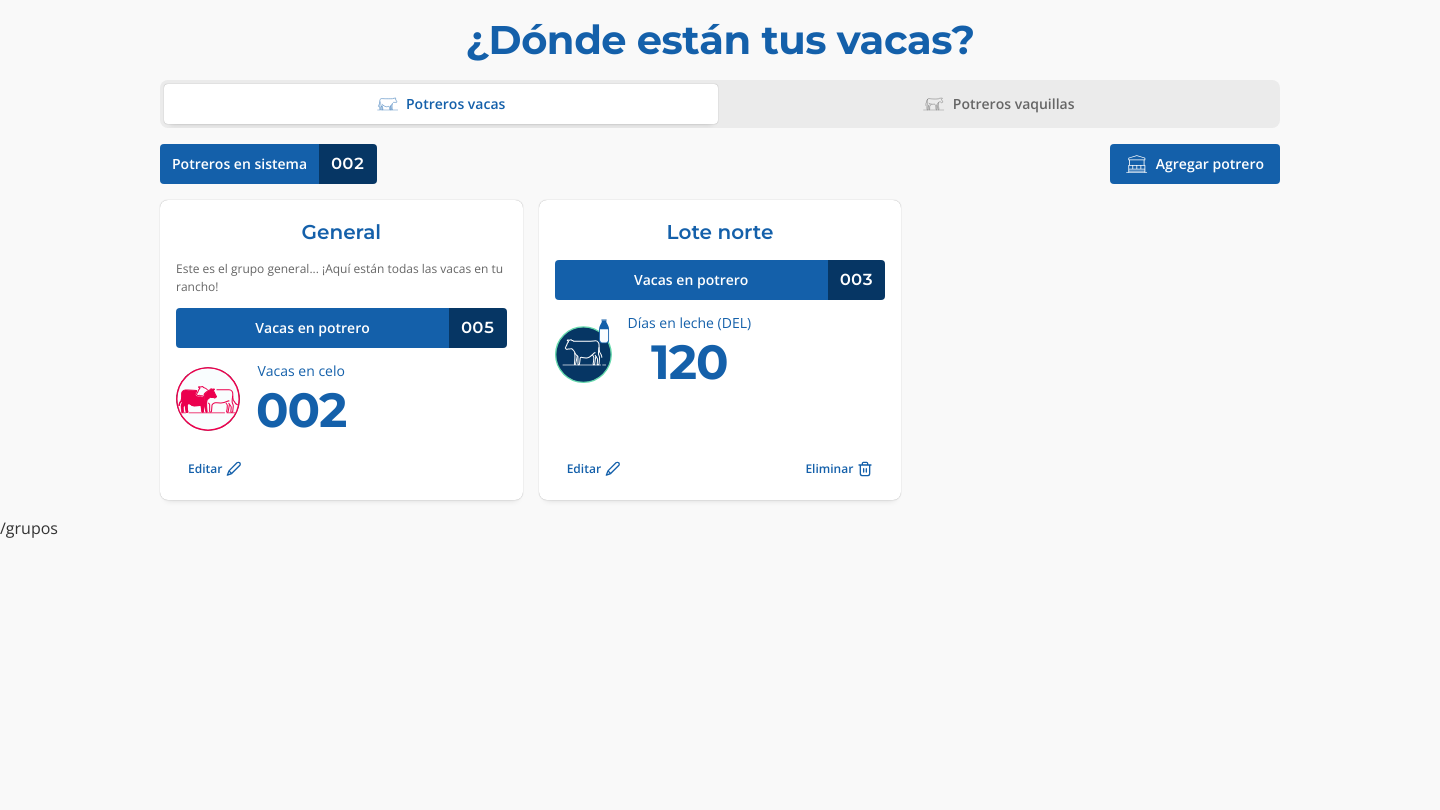
Scenario: Grupos tab › deletes a potrero, sending its cows to General by default
Click the button with aria-label "Eliminar Lote norte" at (839, 469), box [793,454,885,484]
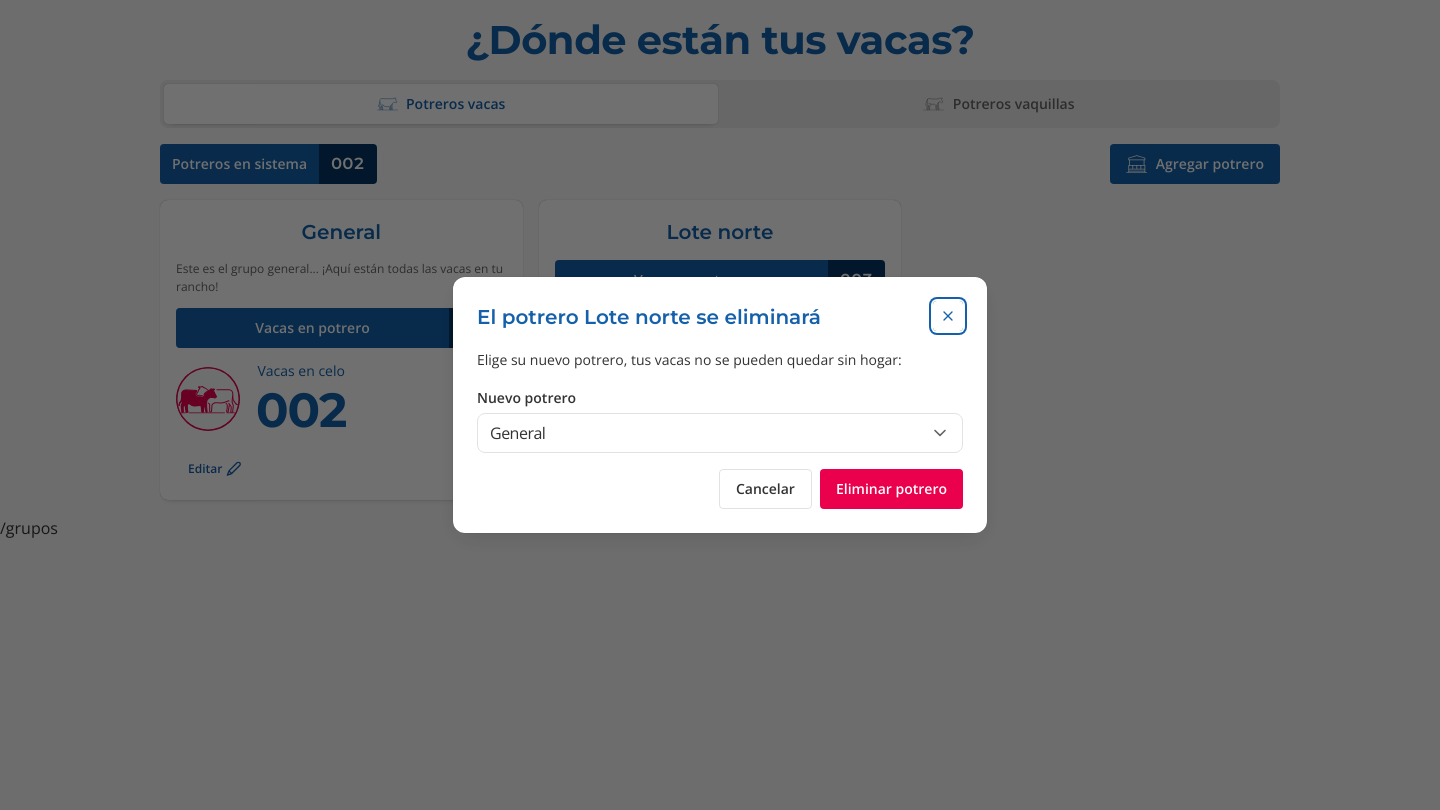
Click the button "Eliminar potrero" at (891, 489), box [820,469,963,509]
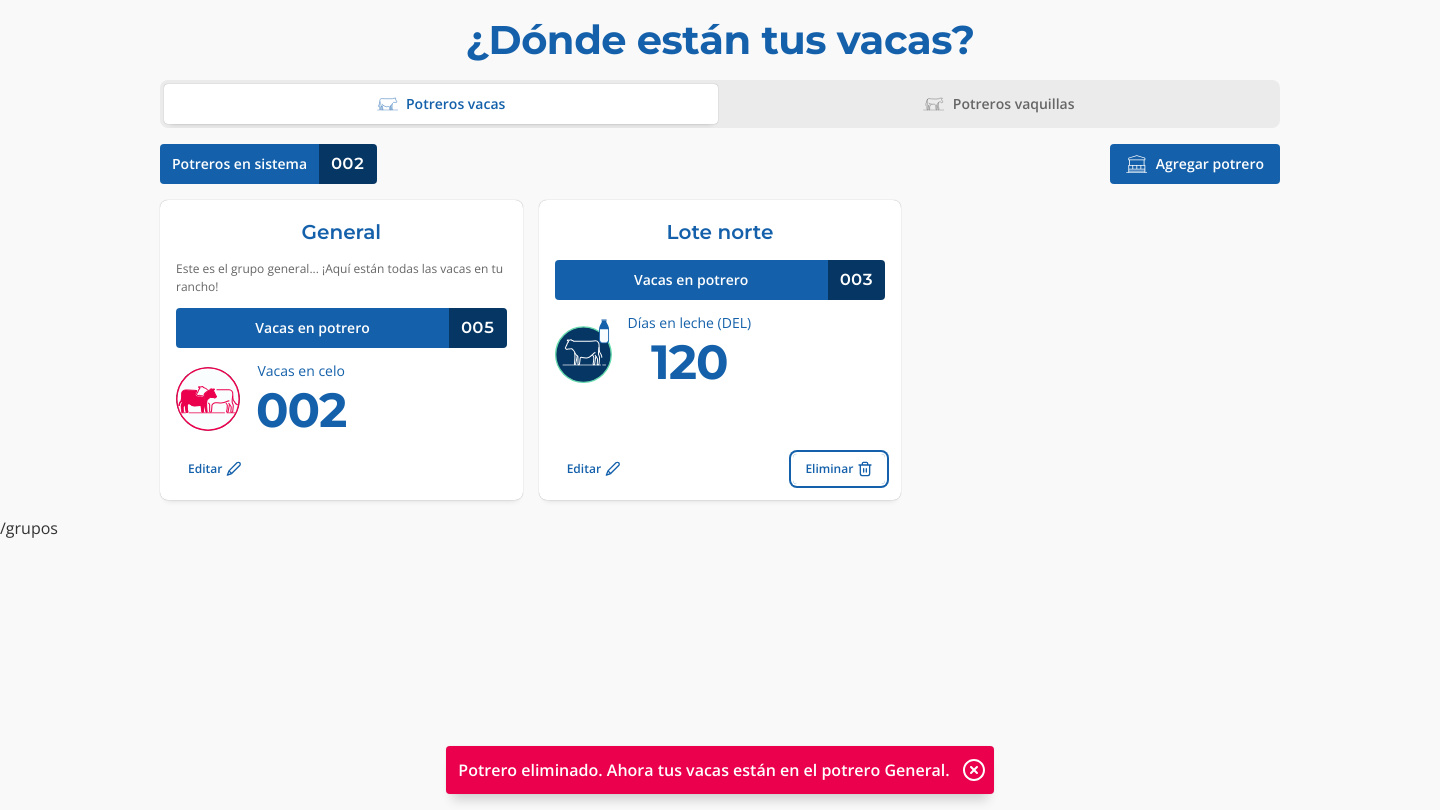
Expected: the text "Potrero eliminado. Ahora tus vacas están en el potrero General." is shown, [458,758,950,782]
